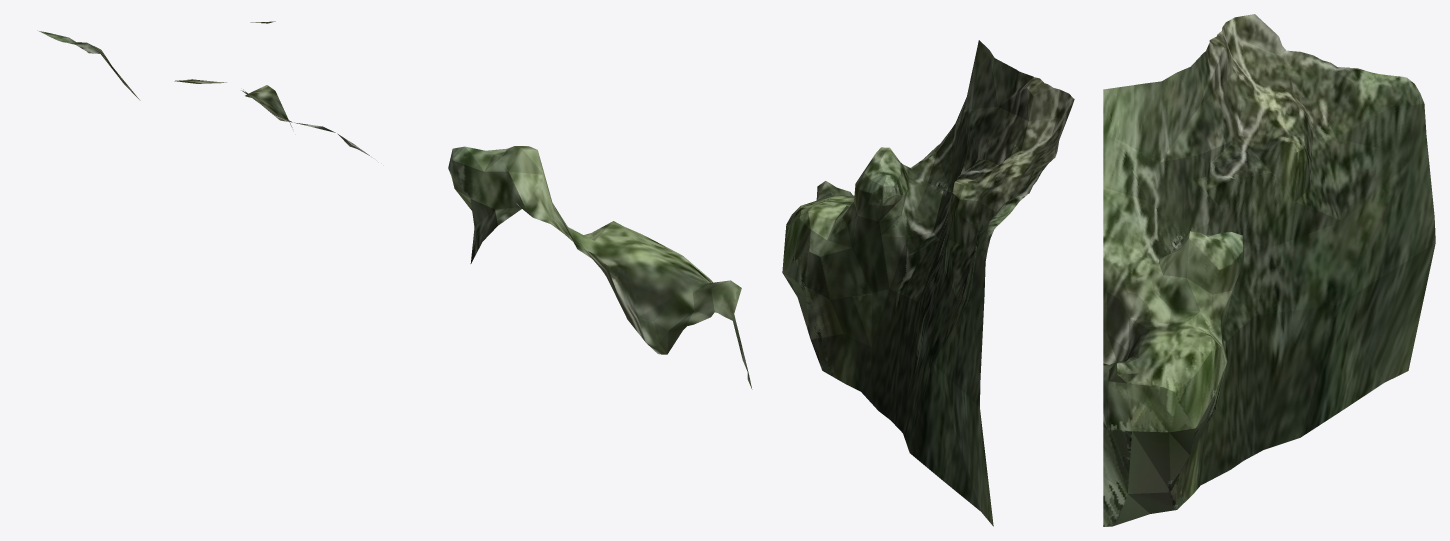
3 views of the same model, side by side, from view 1: azimuth 30°, elevation 25°; view 2: azimuth 150°, elevation 25°; view 3: azimuth 270°, elevation 25° (orthographic). The views are drawn at different scales.
Bounding box in the file's own units: 2.83 × 2.95 × 2.49.
Materials: 3 (3 with a texture image).
